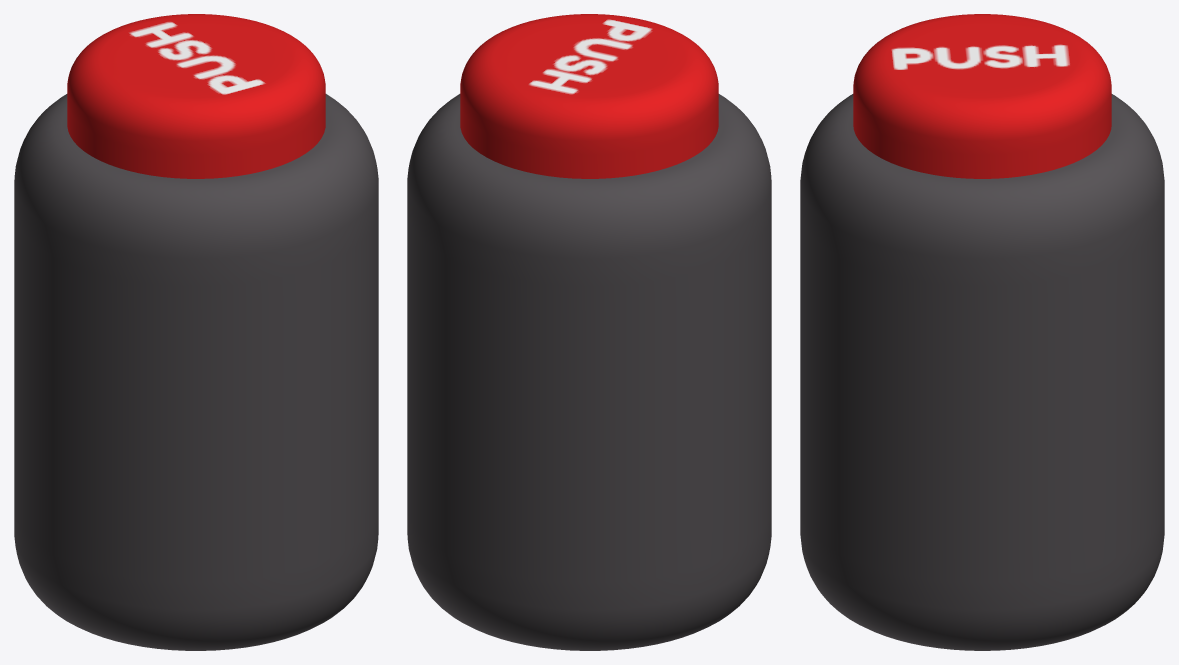
The model's file is button.fbx.
The picture shows the model from 3 angles, left to right: view 1: azimuth 30°, elevation 25°; view 2: azimuth 150°, elevation 25°; view 3: azimuth 270°, elevation 25°; orthographic projection.
Visible parts, largest first — view 1: Cylinder.001, Cylinder.002; view 2: Cylinder.001, Cylinder.002; view 3: Cylinder.001, Cylinder.002.
Part boxes in pixels (bbox=[...]): Cylinder.001: bbox=[14, 94, 378, 650]; Cylinder.002: bbox=[67, 14, 325, 178]; Cylinder.001: bbox=[407, 94, 771, 650]; Cylinder.002: bbox=[460, 14, 718, 178]; Cylinder.001: bbox=[800, 94, 1164, 650]; Cylinder.002: bbox=[853, 14, 1111, 178].
Bounding box in the file's own units: 1.35 × 2.18 × 1.35.
2 materials, 1 textured.
